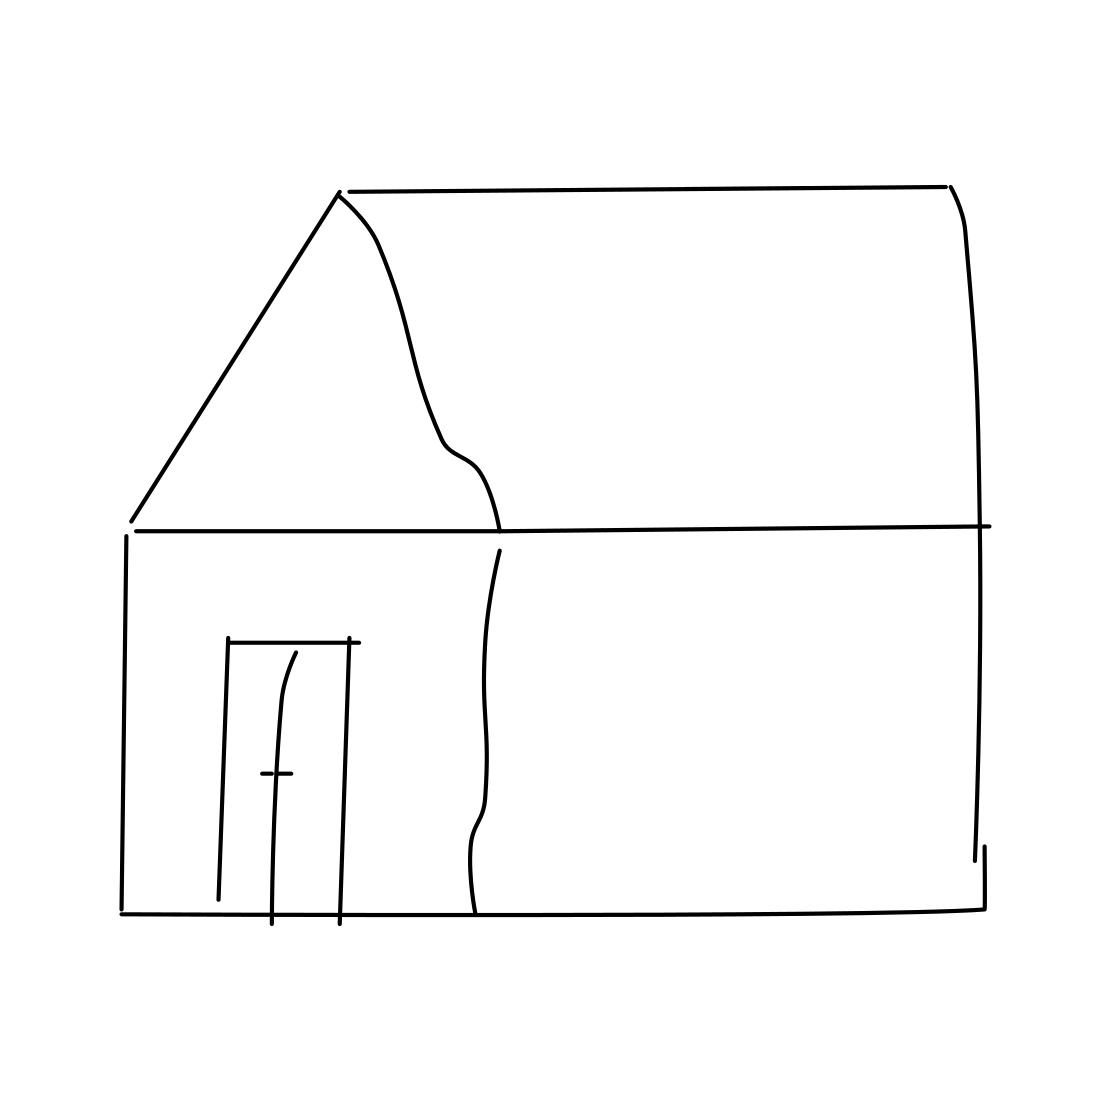House: (66, 128, 1015, 951)
